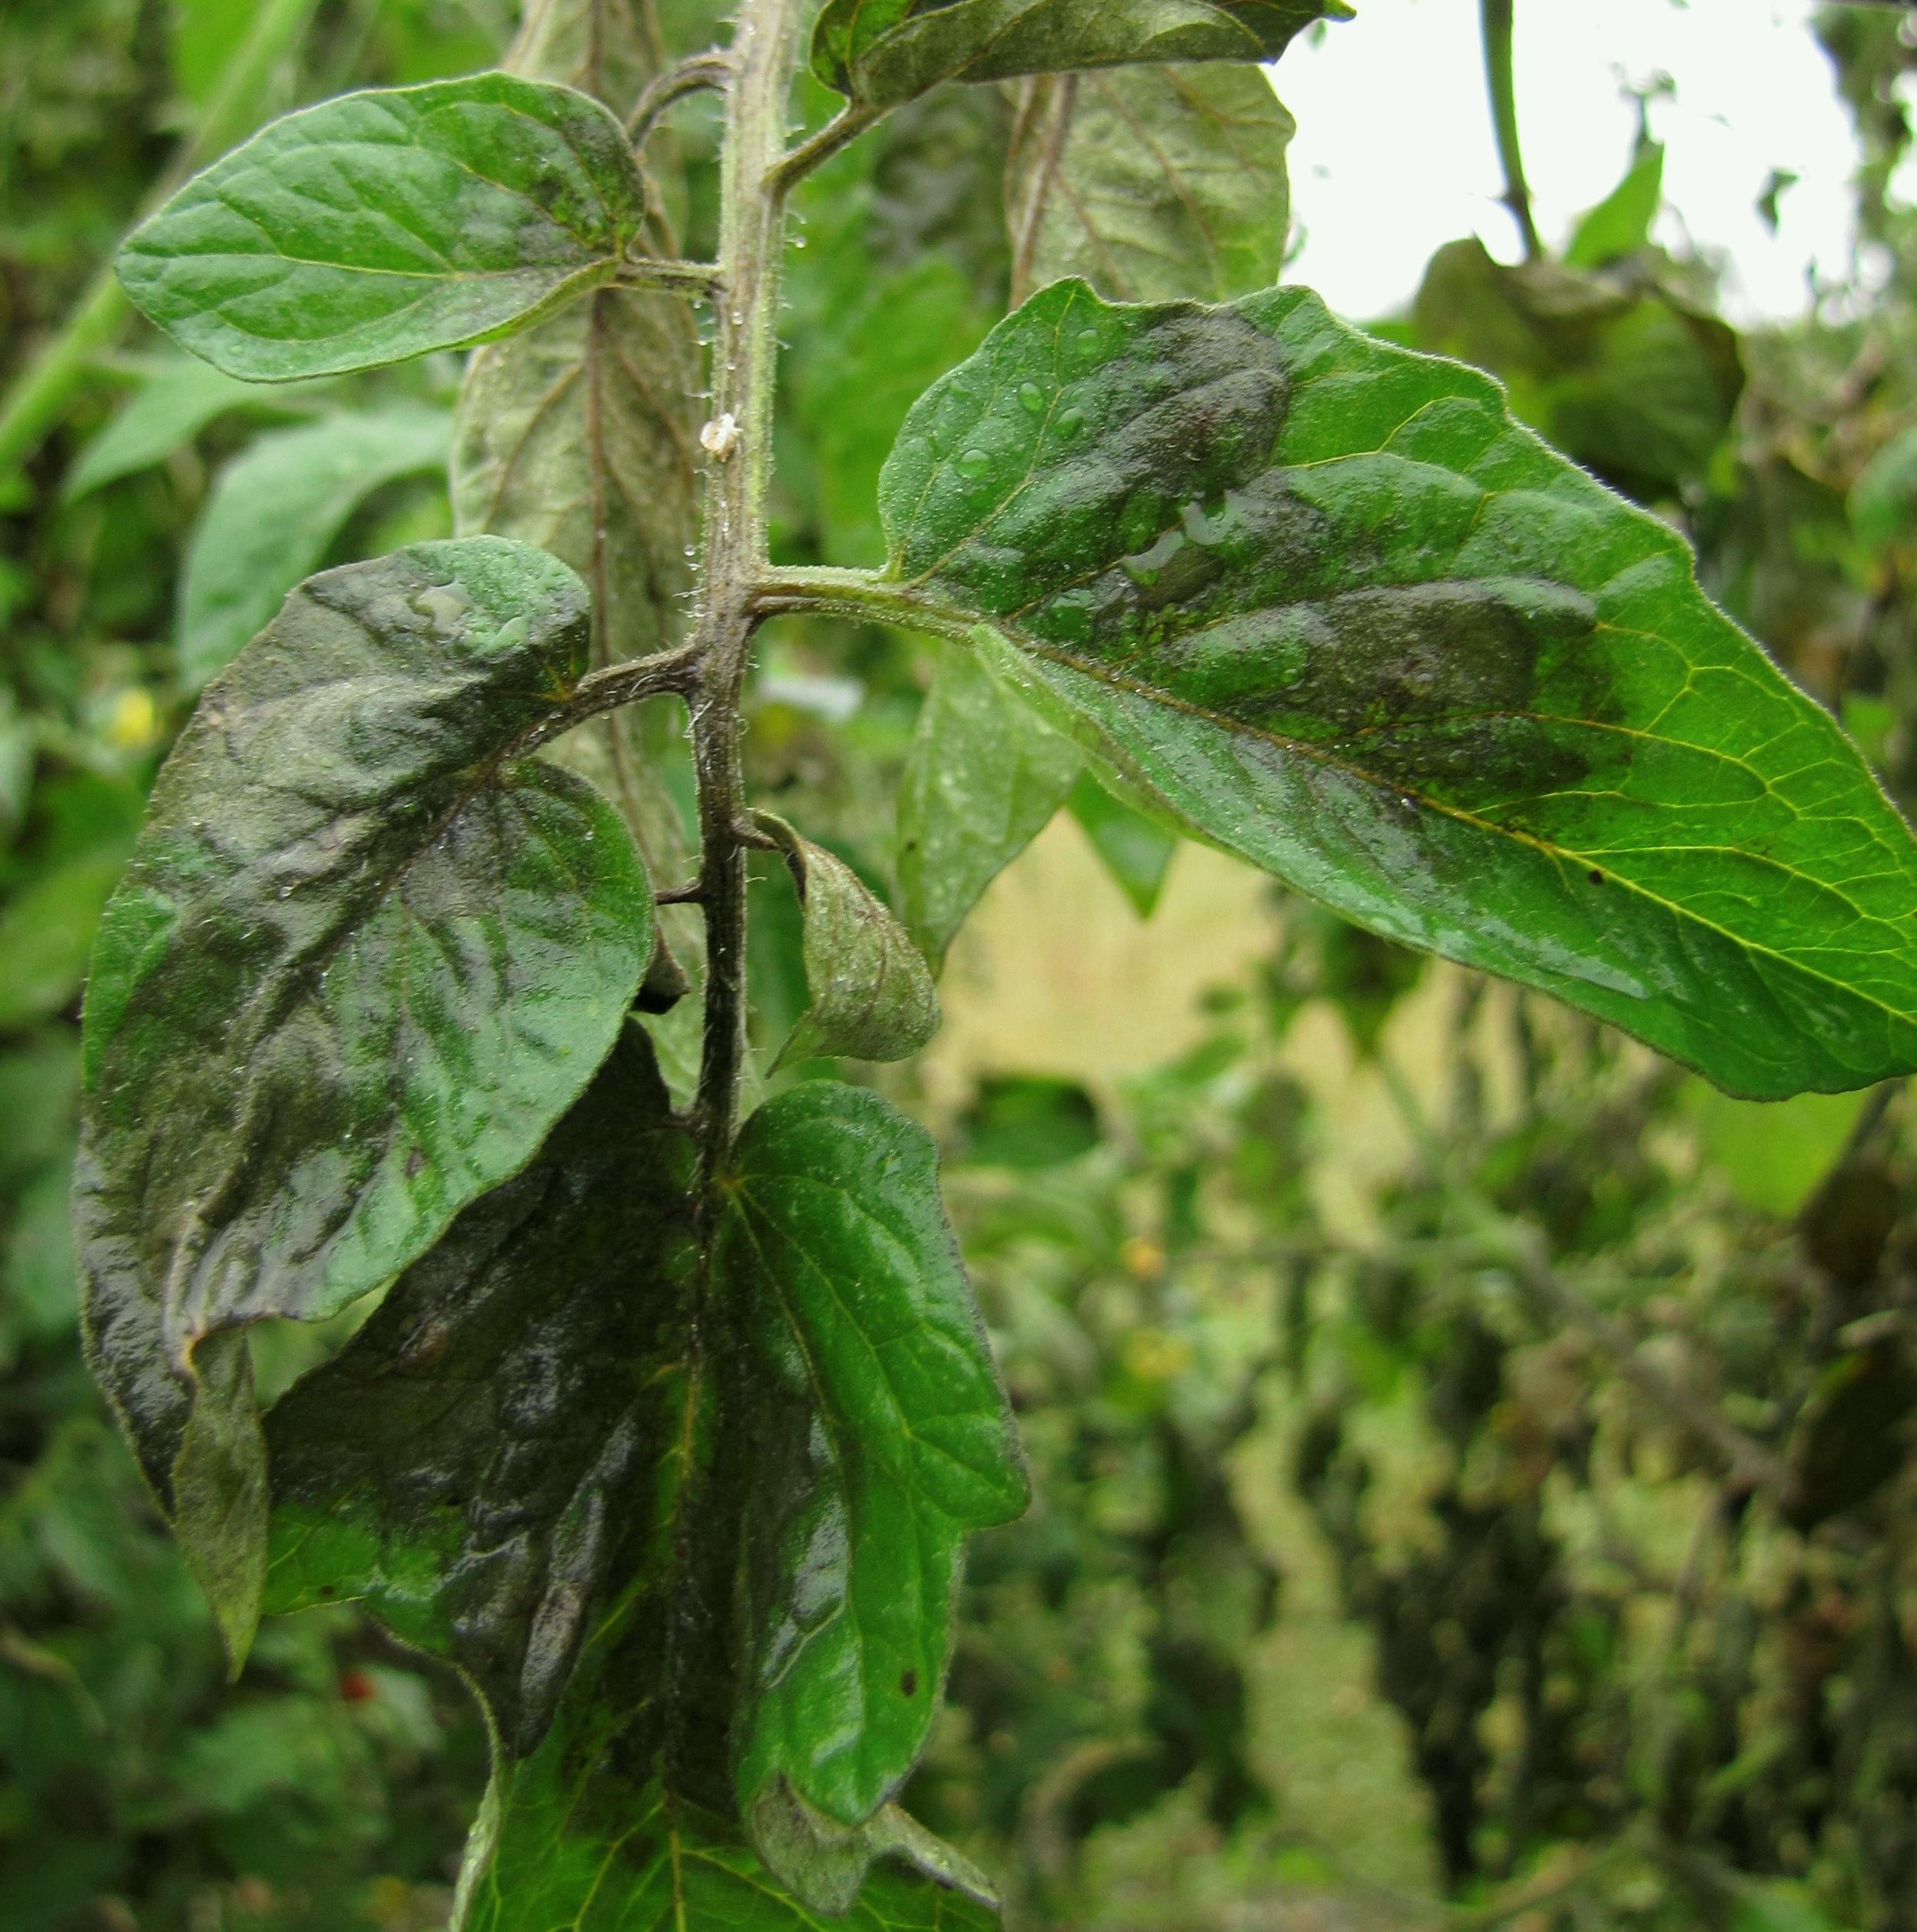Tomato leaf late blight: (872, 261, 1917, 1116), (0, 549, 681, 1623), (295, 1042, 1067, 1932)
